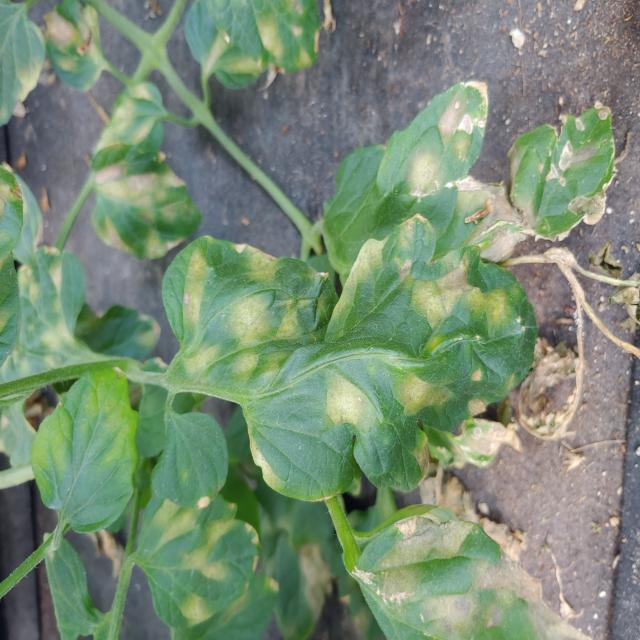Tomato mold leaf: (164, 212, 536, 503), (350, 503, 596, 640), (326, 80, 488, 273), (30, 368, 140, 536), (139, 487, 261, 631), (89, 142, 201, 260), (184, 0, 320, 92), (0, 246, 89, 384), (0, 0, 45, 129), (44, 0, 103, 92), (93, 82, 164, 154)
